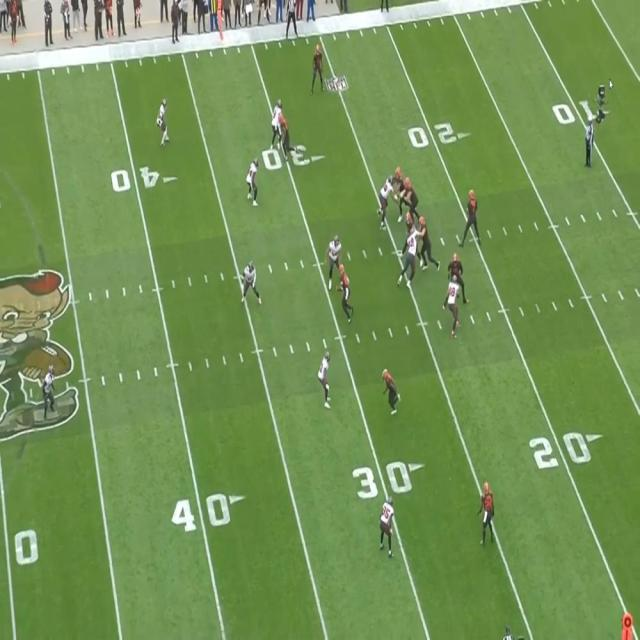db: (380, 496, 396, 554), (321, 353, 333, 407), (274, 99, 288, 145), (46, 368, 58, 410), (157, 98, 168, 142), (620, 614, 634, 640)
lb: (326, 233, 339, 285), (242, 263, 258, 305), (340, 262, 350, 322), (249, 158, 260, 204)
qb: (469, 186, 481, 242)
skill: (479, 479, 494, 541), (279, 108, 296, 158), (383, 368, 400, 416), (313, 42, 322, 87)
